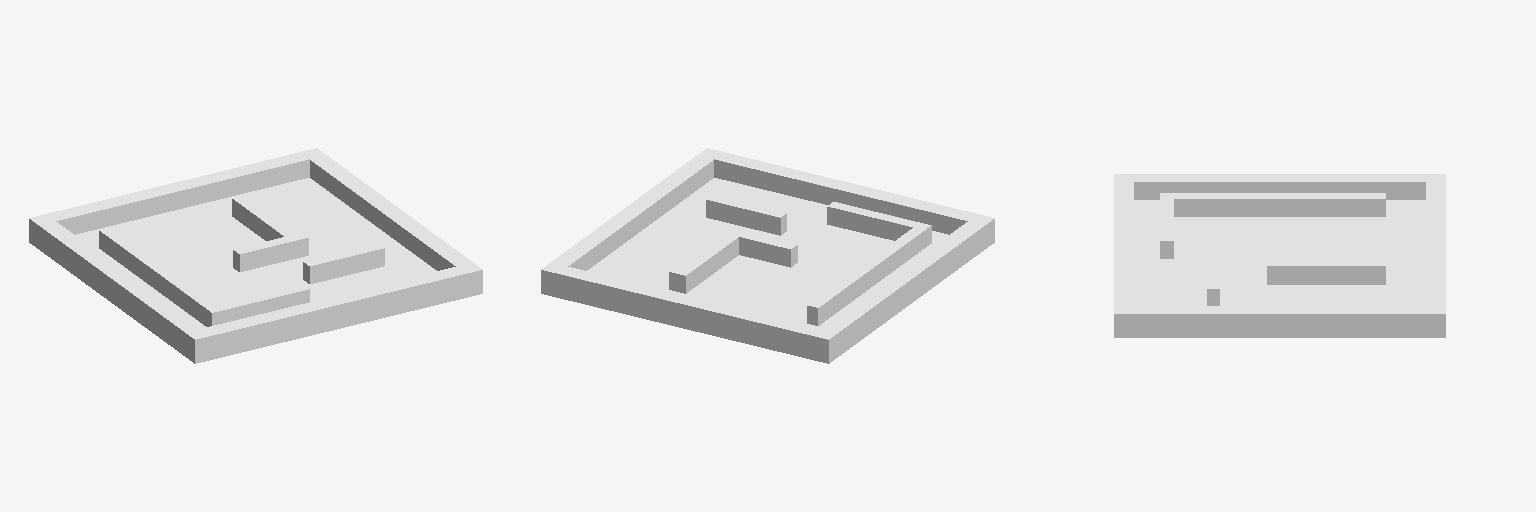
File: board2.obj
3 renders of one model, left to right at view 1: azimuth 30°, elevation 25°; view 2: azimuth 150°, elevation 25°; view 3: azimuth 270°, elevation 25°, orthographic.
Size of the model in its own units: 50 by 4 by 50.